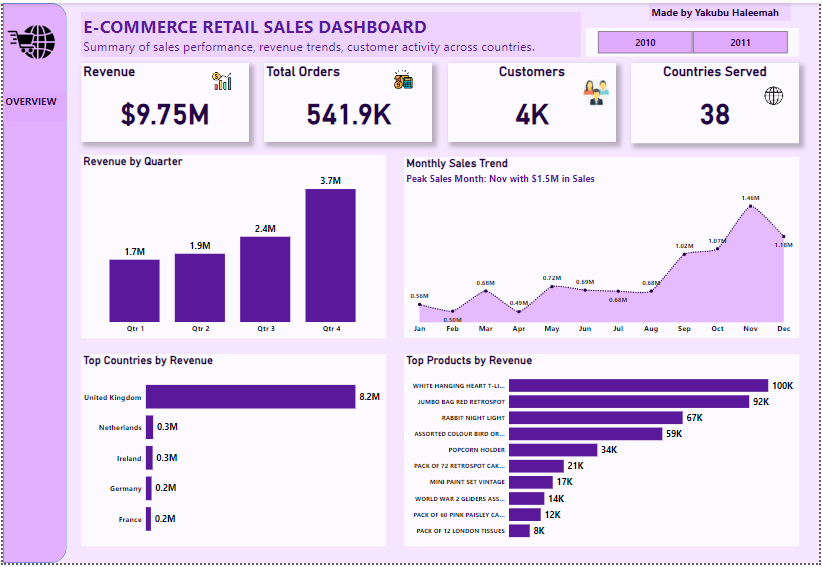

Layout of this report page (visuals, bound fields, positions):
{"tool":"powerbi","page":{"name":"OVERVIEW","canvas":[1750,1200],"ordinal":0},"visuals":[{"type":"card","title":"Total Orders","fields":{"Values":["public ecommerce.Total Orders"]},"box":[560,129.4,360,169.4],"z":0},{"type":"card","title":"Customers","fields":{"Values":["public ecommerce.Total Custumers"]},"box":[952.9,129.4,360,169.4],"z":1000},{"type":"card","title":"Revenue","fields":{"Values":["Sum(public ecommerce.Revenue)"]},"box":[167.1,129.4,360,169.4],"z":2000},{"type":"barChart","title":"Top Countries by Revenue","fields":{"Category":["public ecommerce.country"],"Y":["Sum(public ecommerce.Revenue)"]},"box":[167.1,752.9,654.1,411.8],"z":3000},{"type":"barChart","title":"Top Products by Revenue","fields":{"Category":["public ecommerce.description"],"Y":["Sum(public ecommerce.Revenue)"]},"box":[858.8,752.9,847.1,411.8],"z":4000},{"type":"lineChart","title":"Monthly Sales Trend","fields":{"Y":["Sum(public ecommerce.Revenue)"],"Category":["public ecommerce.Month"]},"box":[858.8,329.4,847.1,388.2],"z":5000},{"type":"slicer","fields":{"Values":["public ecommerce.invoicedate.Variation.Date Hierarchy.Year"]},"box":[1249.4,54.1,456.5,61.2],"z":6000},{"type":"textbox","box":[167.1,18.8,1070.6,96.5],"z":7000},{"type":"columnChart","title":"Revenue by Quarter","fields":{"Category":["public ecommerce.invoicedate.Variation.Date Hierarchy.Quarter"],"Y":["Sum(public ecommerce.Revenue)"]},"box":[167.1,324.7,654.1,392.9],"z":8000},{"type":"card","title":"Countries Served","fields":{"Values":["Count(public ecommerce.country)"]},"box":[1345.9,129.4,360,171.8],"z":9000},{"type":"shape","box":[0,0,136.5,1200],"z":10000},{"type":"image","box":[0,28.2,120,110.6],"z":11000},{"type":"image","box":[1237.6,157.6,65.9,65.9],"z":12000},{"type":"image","box":[444,134,50,64],"z":13000},{"type":"image","box":[816.5,134.1,82.4,56.5],"z":14000},{"type":"image","box":[1614,174,76,50],"z":15000},{"type":"textbox","box":[0,190,136,64],"z":16000},{"type":"textbox","box":[1384.4,0,304.4,38],"z":17000}]}

Visuals, with their boxes in screenshot pixels (x1, y1, x2, y2), scaled from the page's 1750x1200 canvas onto the 822x567 screenshot:
"Total Orders" card: Rect(263, 61, 432, 141)
"Customers" card: Rect(448, 61, 617, 141)
"Revenue" card: Rect(78, 61, 248, 141)
"Top Countries by Revenue" barChart: Rect(78, 356, 386, 550)
"Top Products by Revenue" barChart: Rect(403, 356, 801, 550)
"Monthly Sales Trend" lineChart: Rect(403, 156, 801, 339)
slicer - public ecommerce.invoicedate.Variation.Date Hierarchy.Year: Rect(587, 26, 801, 54)
textbox: Rect(78, 9, 581, 54)
"Revenue by Quarter" columnChart: Rect(78, 153, 386, 339)
"Countries Served" card: Rect(632, 61, 801, 142)
shape: Rect(0, 0, 64, 566)
image: Rect(0, 13, 56, 66)
image: Rect(581, 74, 612, 106)
image: Rect(209, 63, 232, 94)
image: Rect(384, 63, 422, 90)
image: Rect(758, 82, 794, 106)
textbox: Rect(0, 90, 64, 120)
textbox: Rect(650, 0, 793, 18)
